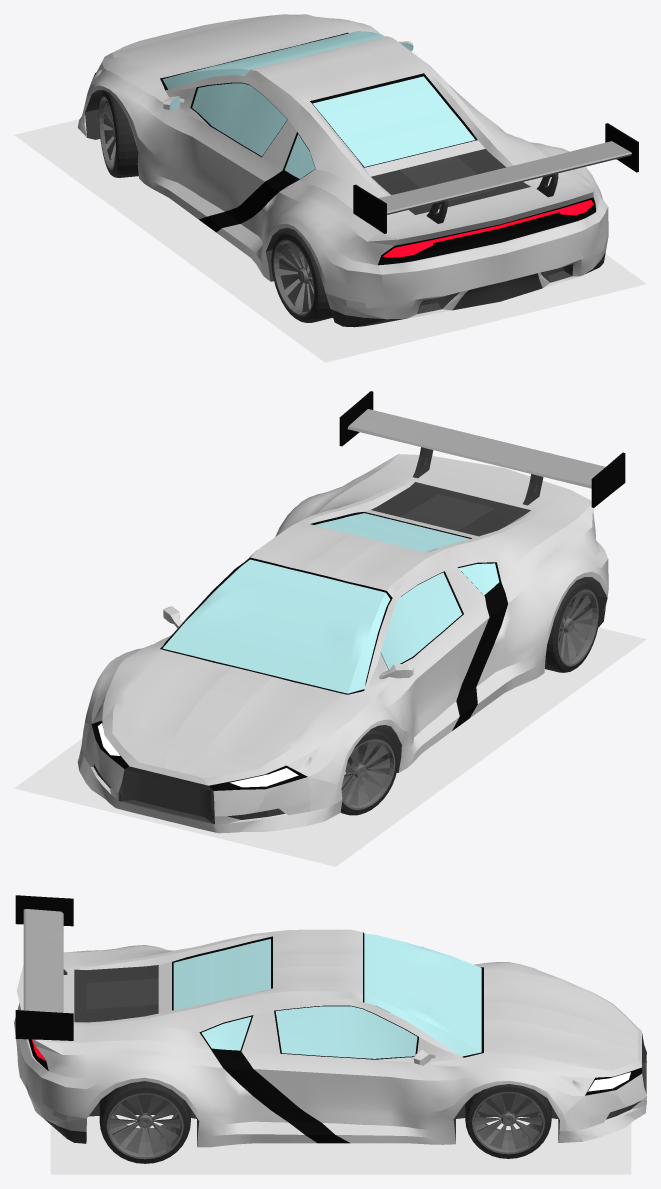
3 renders of one model, top to bottom at view 1: azimuth 30°, elevation 25°; view 2: azimuth 150°, elevation 25°; view 3: azimuth 270°, elevation 25°, orthographic. The views are drawn at different scales.
Visible parts, largest first — view 1: prowler_chassis_gt3.003, shadowCatcher.004, prowler_gt3_spoiler.002, bkup_mirrored.045, bkup_mirrored.047; view 2: prowler_chassis_gt3.003, shadowCatcher.004, prowler_gt3_spoiler.002, bkup_mirrored.045, bkup_mirrored.047; view 3: prowler_chassis_gt3.003, shadowCatcher.004, prowler_gt3_spoiler.002, bkup_mirrored.046, bkup_mirrored.048.
Part boxes in pixels (x1,y1,x2,y2): prowler_chassis_gt3.003: [77, 14, 608, 327]; shadowCatcher.004: [14, 119, 646, 362]; prowler_gt3_spoiler.002: [353, 123, 638, 233]; bkup_mirrored.045: [271, 229, 332, 322]; bkup_mirrored.047: [98, 90, 138, 177]; prowler_chassis_gt3.003: [77, 454, 608, 833]; shadowCatcher.004: [14, 627, 646, 866]; prowler_gt3_spoiler.002: [339, 391, 625, 507]; bkup_mirrored.045: [545, 579, 600, 672]; bkup_mirrored.047: [340, 728, 398, 815]; prowler_chassis_gt3.003: [14, 929, 646, 1147]; shadowCatcher.004: [50, 1115, 631, 1174]; prowler_gt3_spoiler.002: [15, 895, 73, 1040]; bkup_mirrored.046: [99, 1081, 190, 1163]; bkup_mirrored.048: [465, 1084, 551, 1158].
Bounding box in the file's own units: 3.45 × 1.68 × 6.29.
